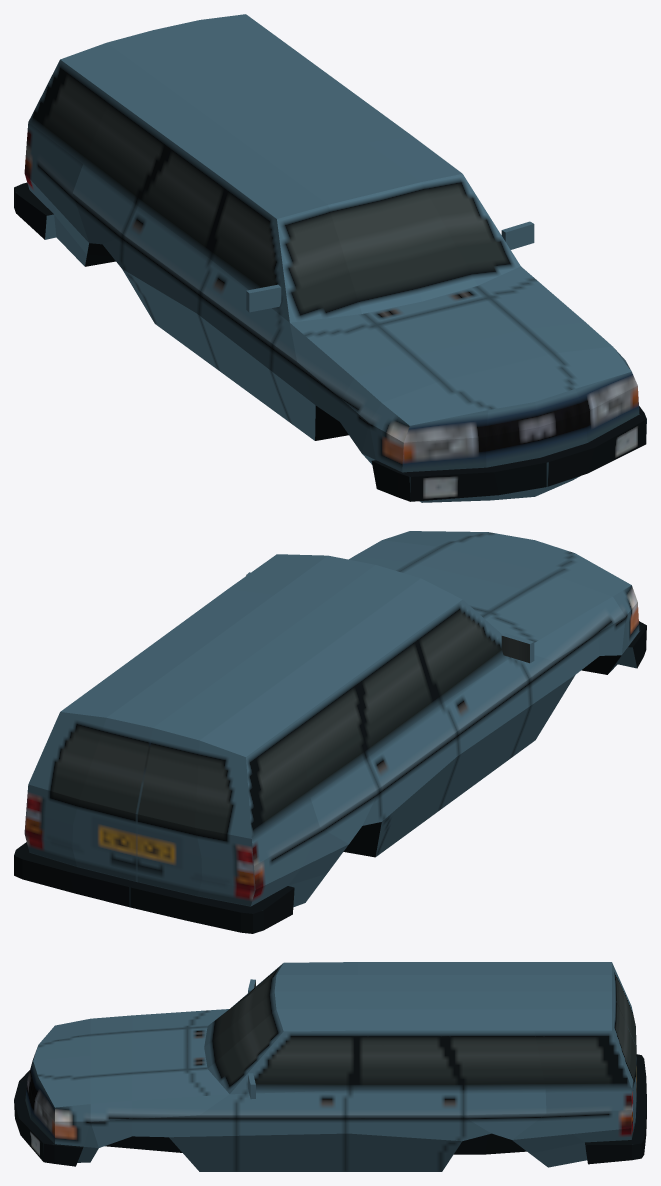
Rendered from volvo_estate.obj.
The picture shows the model from 3 angles, top to bottom: view 1: azimuth 30°, elevation 25°; view 2: azimuth 150°, elevation 25°; view 3: azimuth 270°, elevation 25°; orthographic projection. The views are drawn at different scales.
Parts seen in each view (by area): view 1: volvo_estate; view 2: volvo_estate; view 3: volvo_estate.
Part boxes in pixels (x1,y1,x2,y2): volvo_estate: (14, 14, 646, 502); volvo_estate: (14, 531, 646, 933); volvo_estate: (14, 962, 646, 1171).
Size of the model in its own units: 1.87 by 1.21 by 4.75.
Materials: 1 (1 with a texture image).
